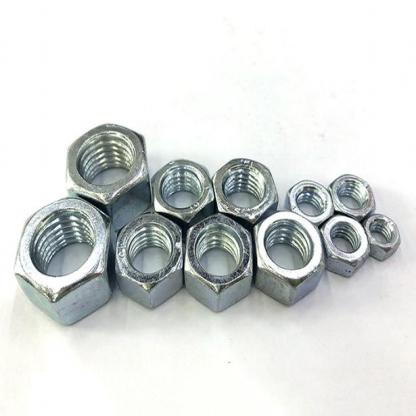FOD: (11, 197, 114, 331), (65, 121, 151, 216), (111, 208, 187, 312), (251, 207, 327, 308), (184, 212, 256, 315), (212, 155, 279, 225), (151, 159, 214, 225), (322, 214, 373, 278), (327, 172, 378, 224), (285, 176, 335, 228), (365, 210, 403, 263)
